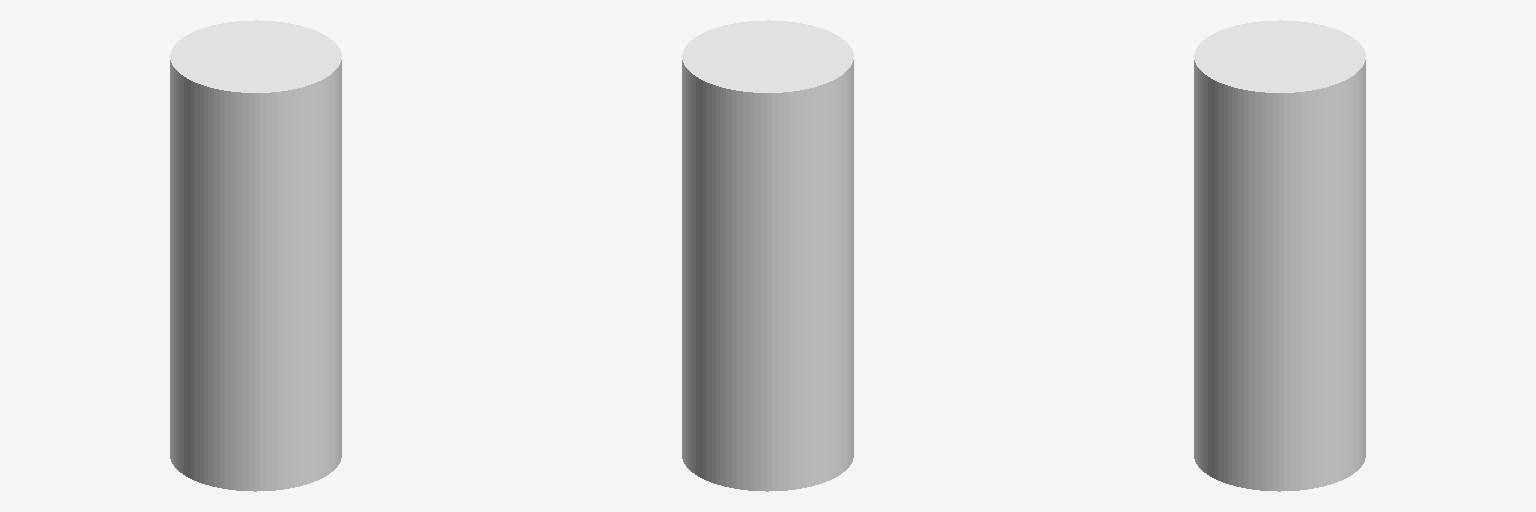
robot.urdf — panda:
<?xml version="1.0" ?>
<!-- =================================================================================== -->
<!-- |    This document was autogenerated by xacro from panda_arm_hand.urdf.xacro      | -->
<!-- |    EDITING THIS FILE BY HAND IS NOT RECOMMENDED                                 | -->
<!-- =================================================================================== -->
<robot name="panda" xmlns:xacro="http://www.ros.org/wiki/xacro">
  <link name="panda_link0">
  	<inertial>
      <origin rpy="0 0 0" xyz="0 0 0.05"/>
       <mass value="2.9"/>
       <inertia ixx="0.1" ixy="0" ixz="0" iyy="0.1" iyz="0" izz="0.1"/>
    </inertial>
    <visual>
      <geometry>
        <mesh filename="package://meshes/collision/link0.obj"/>
      </geometry>
      <material name="panda_white">
    		<color rgba="1. 1. 1. 1."/>
  		</material>
    </visual>
    <collision>
      <geometry>
        <mesh filename="package://meshes/collision/link0.obj"/>
      </geometry>
      <material name="panda_white"/>
    </collision>
  </link>
  <link name="panda_link1">
  	<inertial>
      <origin rpy="0 0 0" xyz="0 -0.04 -0.05"/>
       <mass value="2.7"/>
       <inertia ixx="0.1" ixy="0" ixz="0" iyy="0.1" iyz="0" izz="0.1"/>
    </inertial>
    <visual>
      <geometry>
        <mesh filename="package://meshes/visual/link1.obj"/>
      </geometry>
      <material name="panda_white"/>
    </visual>
    <collision>
      <geometry>
        <mesh filename="package://meshes/collision/link1.obj"/>
      </geometry>
      <material name="panda_white"/>
    </collision>
  </link>
  <joint name="panda_joint1" type="revolute">
    <safety_controller k_position="100.0" k_velocity="40.0" soft_lower_limit="-2.8973" soft_upper_limit="2.8973"/>
    <origin rpy="0 0 0" xyz="0 0 0.333"/>
    <parent link="panda_link0"/>
    <child link="panda_link1"/>
    <axis xyz="0 0 1"/>
    <limit effort="87" lower="-2.9671" upper="2.9671" velocity="2.1750"/>
  </joint>
  <link name="panda_link2">
  	<inertial>
      <origin rpy="0 0 0" xyz="0 -0.04 0.06"/>
       <mass value="2.73"/>
       <inertia ixx="0.1" ixy="0" ixz="0" iyy="0.1" iyz="0" izz="0.1"/>
    </inertial>
    <visual>
      <geometry>
        <mesh filename="package://meshes/visual/link2.obj"/>
      </geometry>
      <material name="panda_white"/>
    </visual>
    <collision>
      <geometry>
        <mesh filename="package://meshes/collision/link2.obj"/>
      </geometry>
      <material name="panda_white"/>
    </collision>
  </link>
  <joint name="panda_joint2" type="revolute">
    <safety_controller k_position="100.0" k_velocity="40.0" soft_lower_limit="-1.7628" soft_upper_limit="1.7628"/>
    <origin rpy="-1.57079632679 0 0" xyz="0 0 0"/>
    <parent link="panda_link1"/>
    <child link="panda_link2"/>
    <axis xyz="0 0 1"/>
    <limit effort="87" lower="-1.8326" upper="1.8326" velocity="2.1750"/>
  </joint>
  <link name="panda_link3">
	  <inertial>
      <origin rpy="0 0 0" xyz="0.01 0.01 -0.05"/>
       <mass value="2.04"/>
       <inertia ixx="0.1" ixy="0" ixz="0" iyy="0.1" iyz="0" izz="0.1"/>
    </inertial>
    <visual>
      <geometry>
        <mesh filename="package://meshes/visual/link3.obj"/>
      </geometry>
      <material name="panda_red">
    		<color rgba="1. 1. 1. 1."/>
  		</material>
    </visual>
    <collision>
      <geometry>
        <mesh filename="package://meshes/collision/link3.obj"/>
      </geometry>
    </collision>
  </link>
  <joint name="panda_joint3" type="revolute">
    <safety_controller k_position="100.0" k_velocity="40.0" soft_lower_limit="-2.8973" soft_upper_limit="2.8973"/>
    <origin rpy="1.57079632679 0 0" xyz="0 -0.316 0"/>
    <parent link="panda_link2"/>
    <child link="panda_link3"/>
    <axis xyz="0 0 1"/>
    <limit effort="87" lower="-2.9671" upper="2.9671" velocity="2.1750"/>
  </joint>
  <link name="panda_link4">
  	<inertial>
      <origin rpy="0 0 0" xyz="-0.03 0.03 0.02"/>
       <mass value="2.08"/>
       <inertia ixx="0.1" ixy="0" ixz="0" iyy="0.1" iyz="0" izz="0.1"/>
    </inertial>
    <visual>
      <geometry>
        <mesh filename="package://meshes/visual/link4.obj"/>
      </geometry>
      <material name="panda_white"/>
    </visual>
    <collision>
      <geometry>
        <mesh filename="package://meshes/collision/link4.obj"/>
      </geometry>
      <material name="panda_white"/>
    </collision>
  </link>
  <joint name="panda_joint4" type="revolute">
    <safety_controller k_position="100.0" k_velocity="40.0" soft_lower_limit="-3.0718" soft_upper_limit="-0.0698"/>
    <origin rpy="1.57079632679 0 0" xyz="0.0825 0 0"/>
    <parent link="panda_link3"/>
    <child link="panda_link4"/>
    <axis xyz="0 0 1"/>
    <limit effort="87" lower="-3.1416" upper="0.0" velocity="2.1750"/>
  </joint>
  <link name="panda_link5">
  	<inertial>
      <origin rpy="0 0 0" xyz="0 0.04 -0.12"/>
       <mass value="3"/>
       <inertia ixx="0.1" ixy="0" ixz="0" iyy="0.1" iyz="0" izz="0.1"/>
    </inertial>
    <visual>
      <geometry>
        <mesh filename="package://meshes/visual/link5.obj"/>
      </geometry>
      <material name="panda_white"/>
    </visual>
    <collision>
      <geometry>
        <mesh filename="package://meshes/collision/link5.obj"/>
      </geometry>
      <material name="panda_white"/>
    </collision>
  </link>
  <joint name="panda_joint5" type="revolute">
    <safety_controller k_position="100.0" k_velocity="40.0" soft_lower_limit="-2.8973" soft_upper_limit="2.8973"/>
    <origin rpy="-1.57079632679 0 0" xyz="-0.0825 0.384 0"/>
    <parent link="panda_link4"/>
    <child link="panda_link5"/>
    <axis xyz="0 0 1"/>
    <limit effort="12" lower="-2.9671" upper="2.9671" velocity="2.6100"/>
  </joint>
  <link name="panda_link6">
  	<inertial>
      <origin rpy="0 0 0" xyz="0.04 0 0"/>
       <mass value="1.3"/>
       <inertia ixx="0.1" ixy="0" ixz="0" iyy="0.1" iyz="0" izz="0.1"/>
    </inertial>
    <visual>
      <geometry>
        <mesh filename="package://meshes/visual/link6.obj"/>
      </geometry>
      <material name="panda_white"/>
    </visual>
    <collision>
      <geometry>
        <mesh filename="package://meshes/collision/link6.obj"/>
      </geometry>
      <material name="panda_white"/>
    </collision>
  </link>
  <joint name="panda_joint6" type="revolute">
    <safety_controller k_position="100.0" k_velocity="40.0" soft_lower_limit="-0.0175" soft_upper_limit="3.7525"/>
    <origin rpy="1.57079632679 0 0" xyz="0 0 0"/>
    <parent link="panda_link5"/>
    <child link="panda_link6"/>
    <axis xyz="0 0 1"/>
    <limit effort="12" lower="-0.0873" upper="3.8223" velocity="2.6100"/>
  </joint>
  <link name="panda_link7">
  	<inertial>
      <origin rpy="0 0 0" xyz="0 0 0.08"/>
       <mass value=".2"/>
       <inertia ixx="0.1" ixy="0" ixz="0" iyy="0.1" iyz="0" izz="0.1"/>
    </inertial>
    <visual>
      <geometry>
        <mesh filename="package://meshes/collision/link7.obj"/>
      </geometry>
      <material name="panda_white"/>
    </visual>
    <collision>
      <geometry>
        <mesh filename="package://meshes/collision/link7.obj"/>
      </geometry>
      <material name="panda_white"/>
    </collision>
  </link>
  <joint name="panda_joint7" type="revolute">
    <safety_controller k_position="100.0" k_velocity="40.0" soft_lower_limit="-2.8973" soft_upper_limit="2.8973"/>
    <origin rpy="1.57079632679 0 0" xyz="0.088 0 0"/>
    <parent link="panda_link6"/>
    <child link="panda_link7"/>
    <axis xyz="0 0 1"/>
    <limit effort="12" lower="-2.9671" upper="2.9671" velocity="2.6100"/>
  </joint>
  <link name="panda_link8">
  	 <inertial>
      <origin rpy="0 0 0" xyz="0 0 0"/>
       <mass value="0.0"/>
       <inertia ixx="0.1" ixy="0" ixz="0" iyy="0.1" iyz="0" izz="0.1"/>
    </inertial>
  </link>
  <joint name="panda_joint8" type="fixed">
    <origin rpy="0 0 0" xyz="0 0 0.107"/>
    <parent link="panda_link7"/>
    <child link="panda_link8"/>
    <axis xyz="0 0 0"/>
  </joint>
  <joint name="panda_hand_joint" type="fixed">
    <parent link="panda_link8"/>
    <child link="panda_hand"/>
    <origin rpy="0 0 -0.785398163397" xyz="0 0 0"/>
  </joint>
  <link name="panda_hand">
  	<inertial>
      <origin rpy="0 0 0" xyz="0 0 0.04"/>
       <mass value=".81"/>
       <inertia ixx="0.1" ixy="0" ixz="0" iyy="0.1" iyz="0" izz="0.1"/>
    </inertial>
    <visual>
      <geometry>
        <mesh filename="package://meshes/visual/hand.obj"/>
      </geometry>
      <material name="panda_white"/>
    </visual>
    <collision>
      <geometry>
        <mesh filename="package://meshes/collision/hand.obj"/>
      </geometry>
      <material name="panda_white"/>
    </collision>
  </link>
  <!-- <link name="panda_leftfinger">
       <contact>
      <friction_anchor/>
      <stiffness value="30000.0"/>
      <damping value="1000.0"/>
      <spinning_friction value="0.1"/>
      <lateral_friction value="1.0"/>
    </contact>
  	<inertial>
      <origin rpy="0 0 0" xyz="0 0.01 0.02"/>
       <mass value="0.1"/>
       <inertia ixx="0.1" ixy="0" ixz="0" iyy="0.1" iyz="0" izz="0.1"/>
    </inertial>
    <visual>
      <geometry>
        <mesh filename="package://meshes/visual/finger.obj"/>
      </geometry>
      <material name="panda_white"/>
    </visual>
    <collision>
      <geometry>
        <mesh filename="package://meshes/collision/finger.obj"/>
      </geometry>
      <material name="panda_white"/>
    </collision>
  </link>
<link name="panda_rightfinger">
        <contact>
      <friction_anchor/>
      <stiffness value="30000.0"/>
      <damping value="1000.0"/>
      <spinning_friction value="0.1"/>
      <lateral_friction value="1.0"/>
    </contact>

  	<inertial>
      <origin rpy="0 0 0" xyz="0 -0.01 0.02"/>
       <mass value="0.1"/>
       <inertia ixx="0.1" ixy="0" ixz="0" iyy="0.1" iyz="0" izz="0.1"/>
    </inertial>
    <visual>
      <origin rpy="0 0 3.14159265359" xyz="0 0 0"/>
      <geometry>
        <mesh filename="package://meshes/visual/cylinder.obj"/>
      </geometry>
      <material name="panda_white"/>
    </visual>
    <collision>
      <origin rpy="0 0 3.14159265359" xyz="0 0 0"/>
      <geometry>
        <mesh filename="package://meshes/collision/cylinder.obj"/>
      </geometry>
      <material name="panda_white"/>
    </collision>
  </link>
<joint name="panda_finger_joint1" type="prismatic">
    <parent link="panda_hand"/>
    <child link="panda_leftfinger"/>
    <origin rpy="0 0 0" xyz="0 0 0.0584"/>
    <axis xyz="0 1 0"/>
    <limit effort="20" lower="0.0" upper="0.04" velocity="0.2"/>
  </joint>
<joint name="panda_finger_joint2" type="prismatic">
    <parent link="panda_hand"/>
    <child link="panda_rightfinger"/>
    <origin rpy="0 0 0" xyz="0 0 0.0584"/>
    <axis xyz="0 -1 0"/>
    <limit effort="20" lower="0.0" upper="0.04" velocity="0.2"/>
    <mimic joint="panda_finger_joint1"/>
  </joint> -->

<link name="panda_centerfinger">
    <contact>
        <friction_anchor/>
        <stiffness value="30000.0"/>
        <damping value="1000.0"/>
        <spinning_friction value="0.1"/>
        <lateral_friction value="1.0"/>
    </contact>
    <inertial>
        <origin rpy="0 0 0" xyz="0 0 0.02"/>
        <mass value="0.1"/>
        <inertia ixx="0.1" ixy="0" ixz="0" iyy="0.1" iyz="0" izz="0.1"/>
    </inertial>
    <visual>
        <origin rpy="0 0 3.14159265359" xyz="0 0 0"/>
        <geometry>
            <mesh filename="package://meshes/visual/cylinder.obj"/>
        </geometry>
        <material name="panda_white"/>
    </visual>
    <collision>
        <origin rpy="0 0 3.14159265359" xyz="0 0 0"/>
        <geometry>
            <mesh filename="package://meshes/collision/cylinder.obj"/>
        </geometry>
        <material name="panda_white"/>
    </collision>
</link>
<joint name="panda_centerfinger_joint" type="prismatic">
    <parent link="panda_hand"/>
    <child link="panda_centerfinger"/>
    <origin rpy="0 0 0" xyz="0 0 0.0584"/>
    <axis xyz="0 0 1"/>
    <limit effort="20" lower="0.0" upper="0.04" velocity="0.2"/>
</joint>

<!-- <link name="panda_grasptarget">
 <inertial>
      <origin rpy="0 0 0" xyz="0 0 0"/>
       <mass value="0.0"/>
       <inertia ixx="0.1" ixy="0" ixz="0" iyy="0.1" iyz="0" izz="0.1"/>
    </inertial>
   </link>
   <joint name="panda_grasptarget_hand" type="fixed">
    <parent link="panda_hand"/>
    <child link="panda_grasptarget"/>
    <origin rpy="0 0 0" xyz="0 0 0.105"/>
  </joint> -->
  
</robot>

--- What the picture shows (computed from the rendered views, not written in the file) ---
The picture shows the robot from 3 angles, left to right: view 1: azimuth 30°, elevation 25°; view 2: azimuth 150°, elevation 25°; view 3: azimuth 270°, elevation 25°; orthographic projection.
Model panda with 11 links and 10 joints (7 revolute, 1 prismatic, 2 fixed), rooted at panda_link0, posed every joint at zero.
Visible links, largest first — view 1: panda_centerfinger; view 2: panda_centerfinger; view 3: panda_centerfinger.
Boxes of the visible links, x1=… form: panda_centerfinger: x1=170, y1=20, x2=341, y2=491; panda_centerfinger: x1=682, y1=20, x2=853, y2=491; panda_centerfinger: x1=1194, y1=20, x2=1365, y2=491.
Bounding box of the posed robot: 0.02 × 0.02 × 0.0512 m (x, y, z).
Meshes: 10 distinct files referenced, 1 mesh visuals loaded (1 OBJ); not drawn: 9 (reference not matched to a file when rendering).